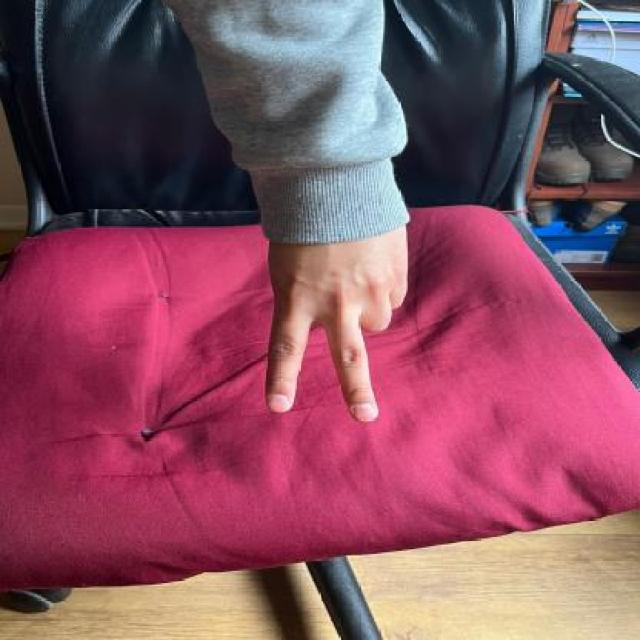N: (256, 170, 415, 422)
